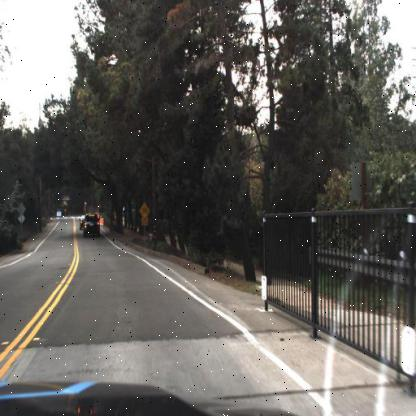car: (81, 214, 100, 240), (77, 211, 85, 232)
